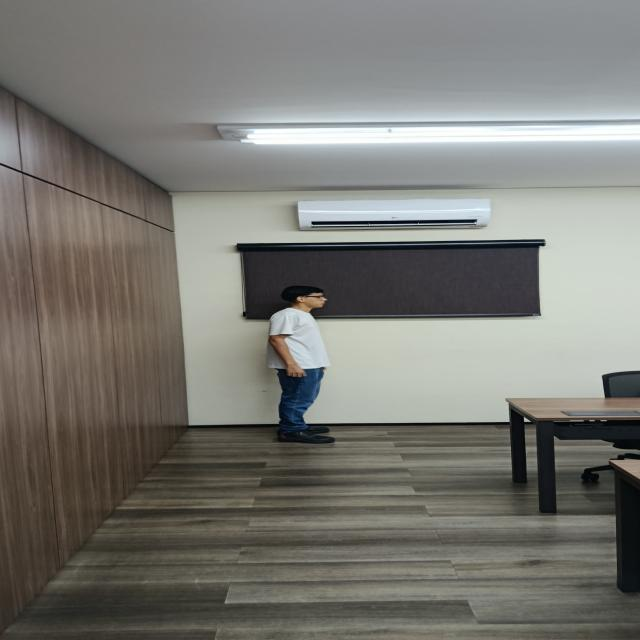oculos-epi: (313, 296, 324, 299)
